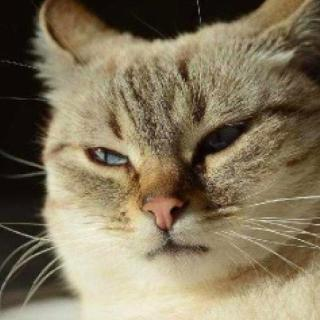cat: (29, 0, 320, 282)
nose: (132, 173, 200, 244)
